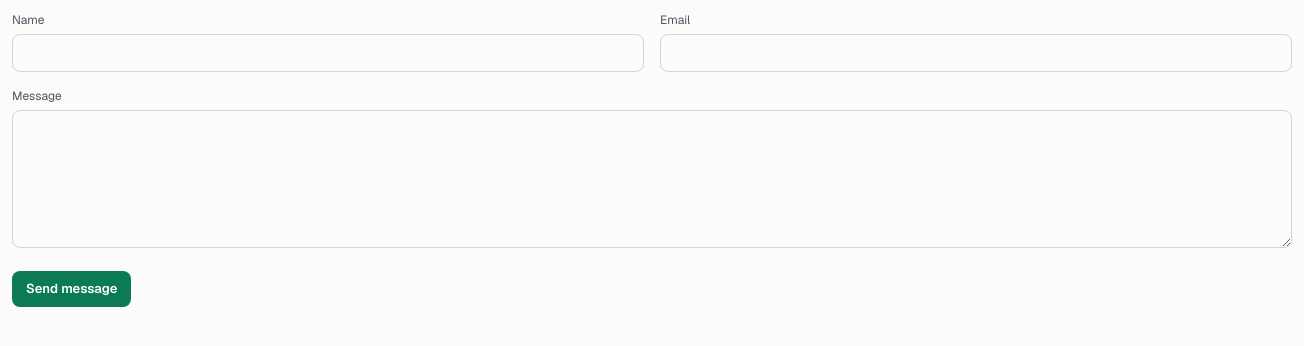
ContactForm › shows API field errors under the fields
In the field labelled "Name": (328, 53) [12, 34, 644, 72], type "Ada"
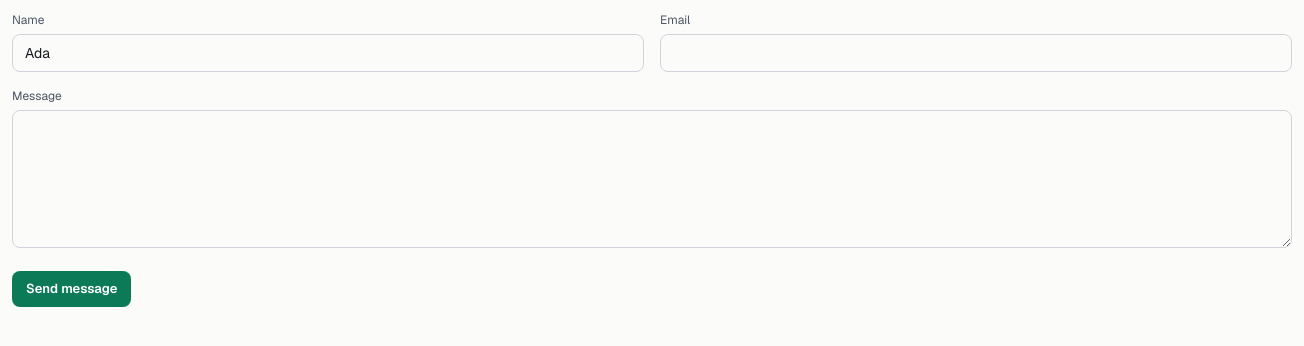
In the field labelled "Email": (976, 53) [660, 34, 1292, 72], type "ada@example.com"
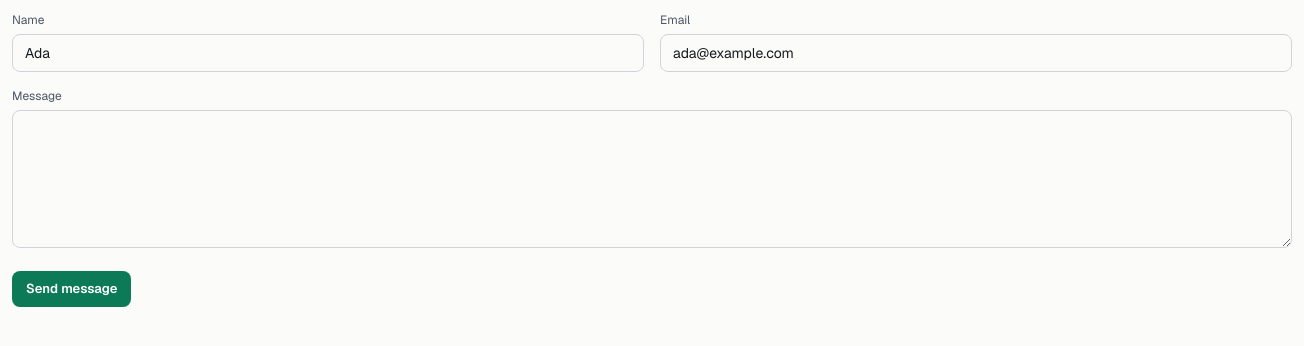
In the text box labelled "Message": (652, 179) [12, 110, 1292, 248], type "Hello there, Chris!"
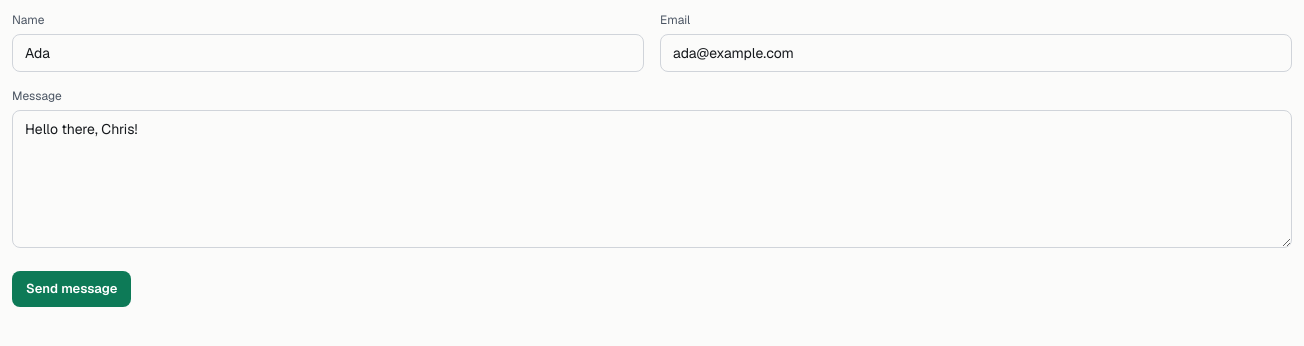
Click the button "Send message": click(72, 289) [12, 271, 131, 306]
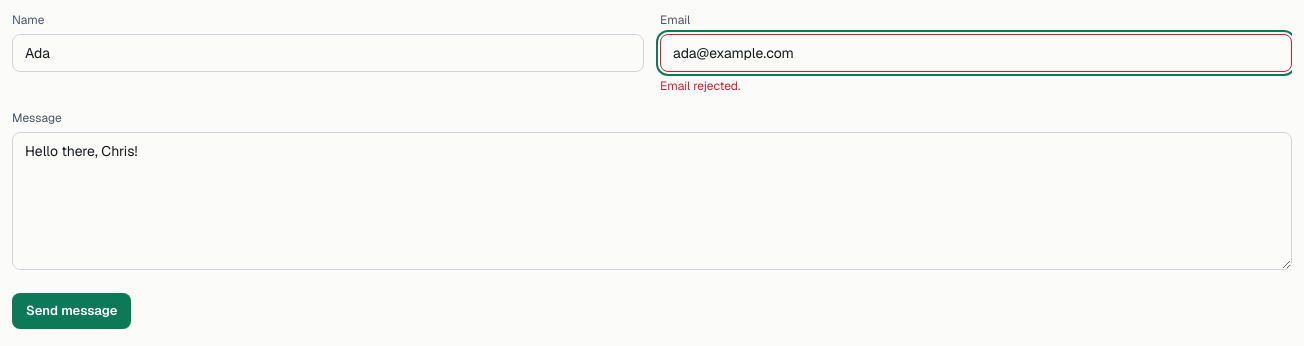
Expected: the text "Email rejected." is shown, [660, 78, 740, 94]
